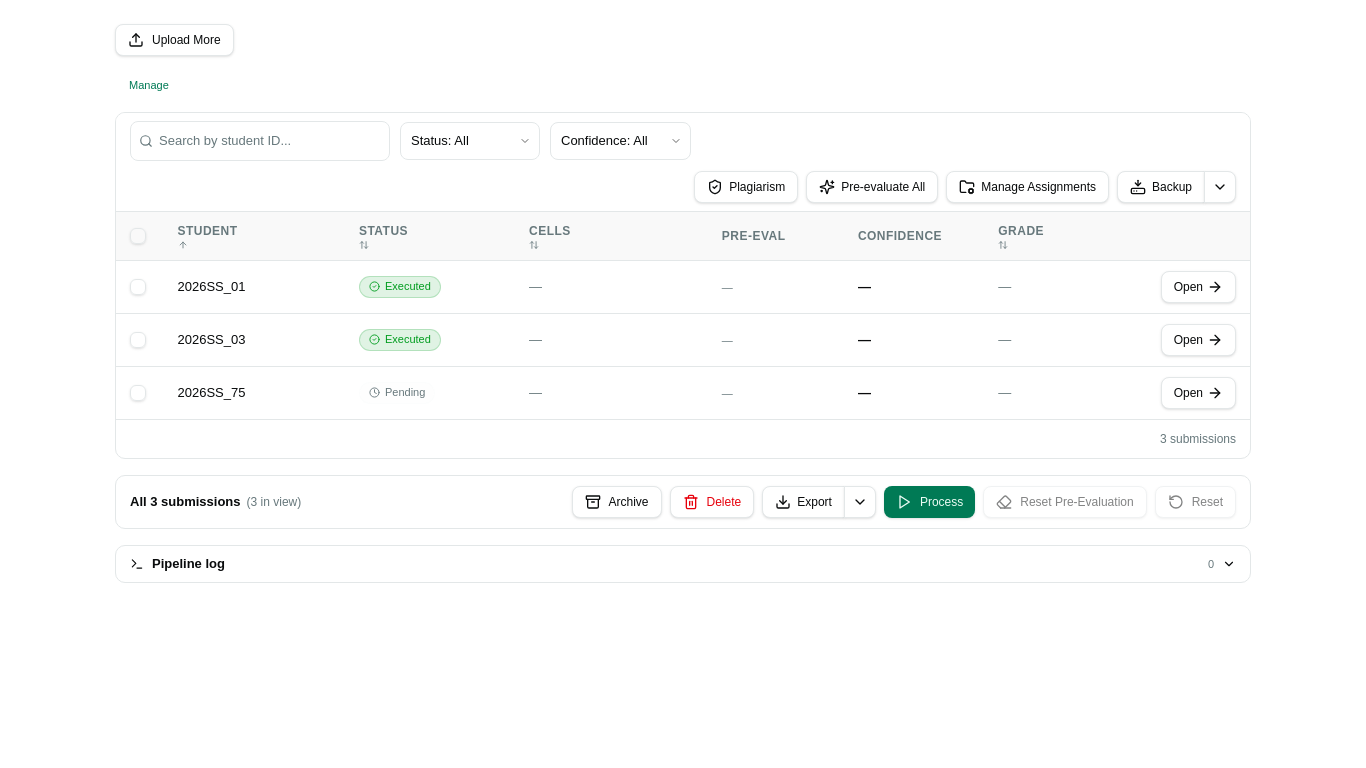
Test case: submissions dashboard — table refresh after mutations › keeps the selection bar consistent after the deleted row disappears
This screenshot has width=1366, height=768.
Check: the link "2026SS_01" is shown, box [178,279,246,294]
Click the checkbox named "Select 2026SS_01": point(138, 287) [130,279,146,295]
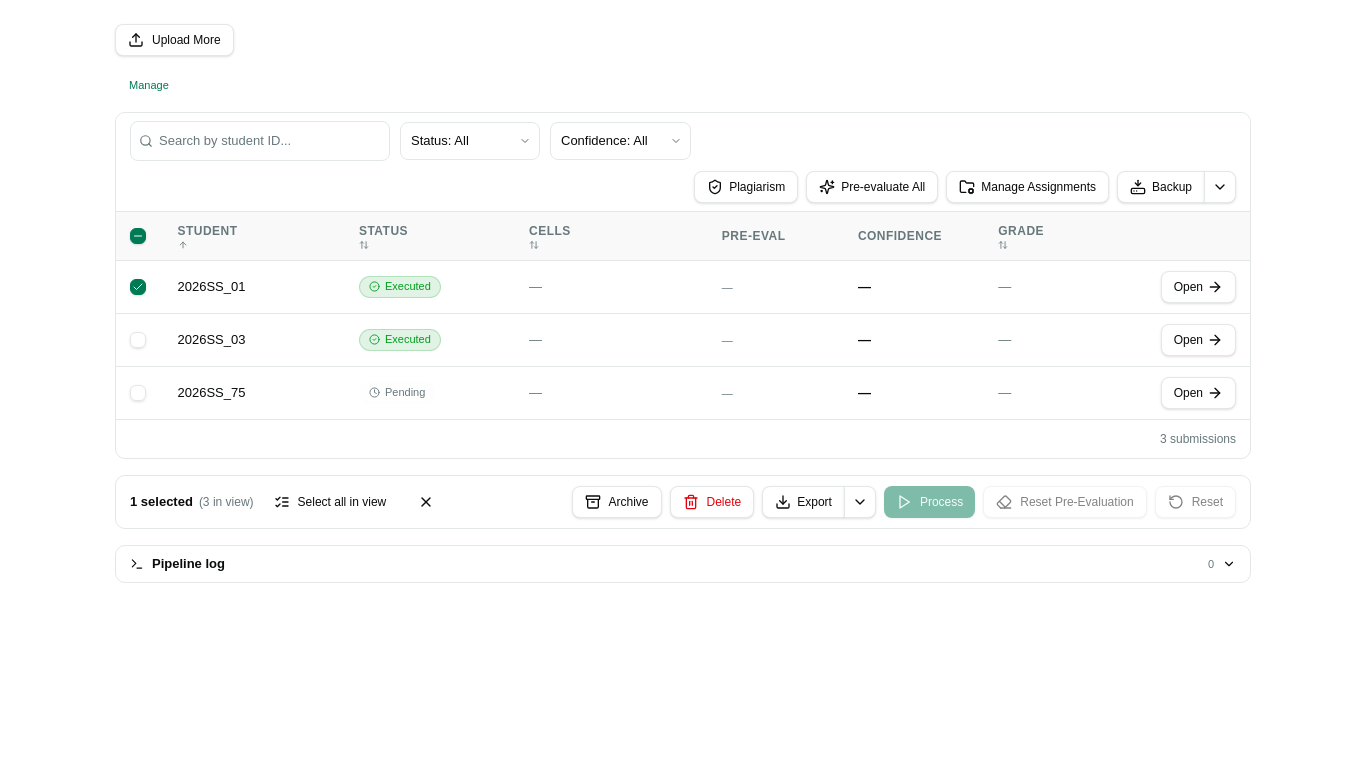
Check: the text "1 selected (3 in view)" is shown, box [130,492,254,512]
Click the button "Delete": point(712, 502) [670,486,754,518]
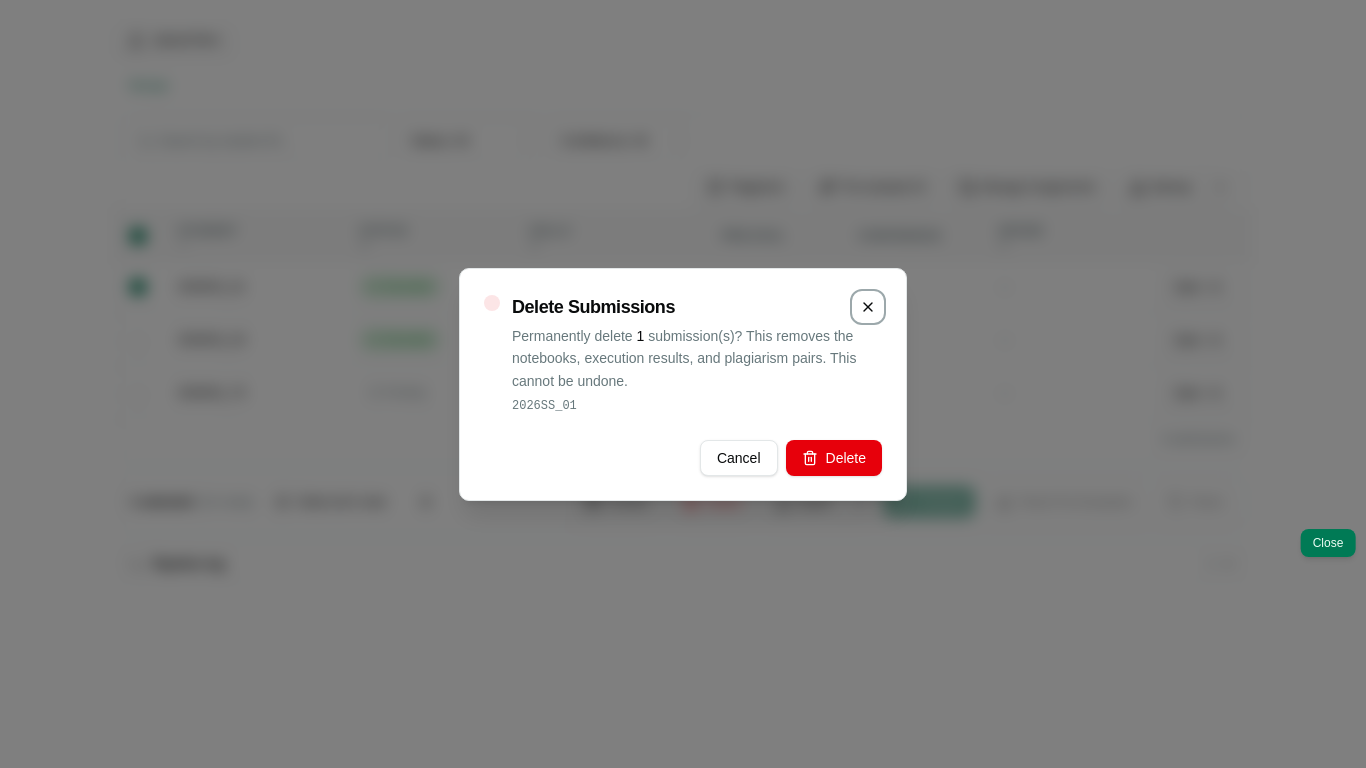
Click the button "Delete": point(834, 458) [786,440,882,476]
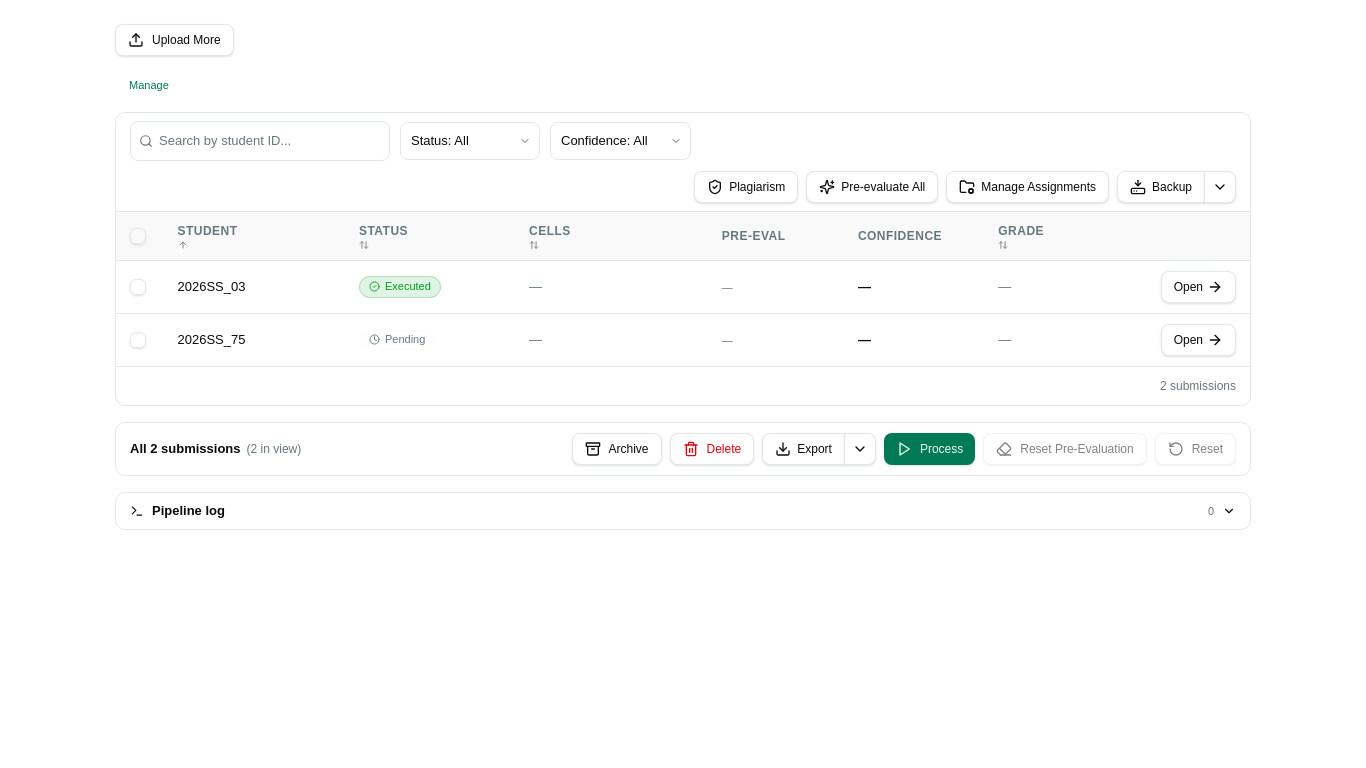
Check: the link "2026SS_01" is gone
Check: the text "1 selected" is gone
Check: the text "All 2 submissions (2 in view)" is shown, box [130,439,301,459]
